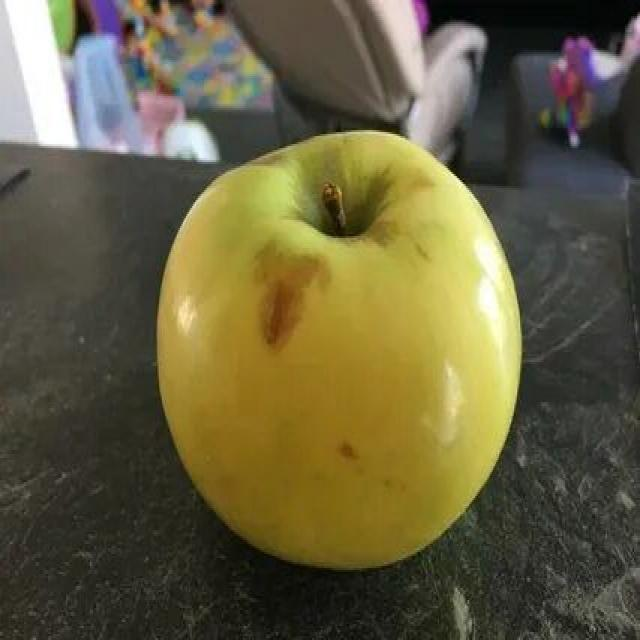Fresh Apple: (148, 136, 514, 556)
